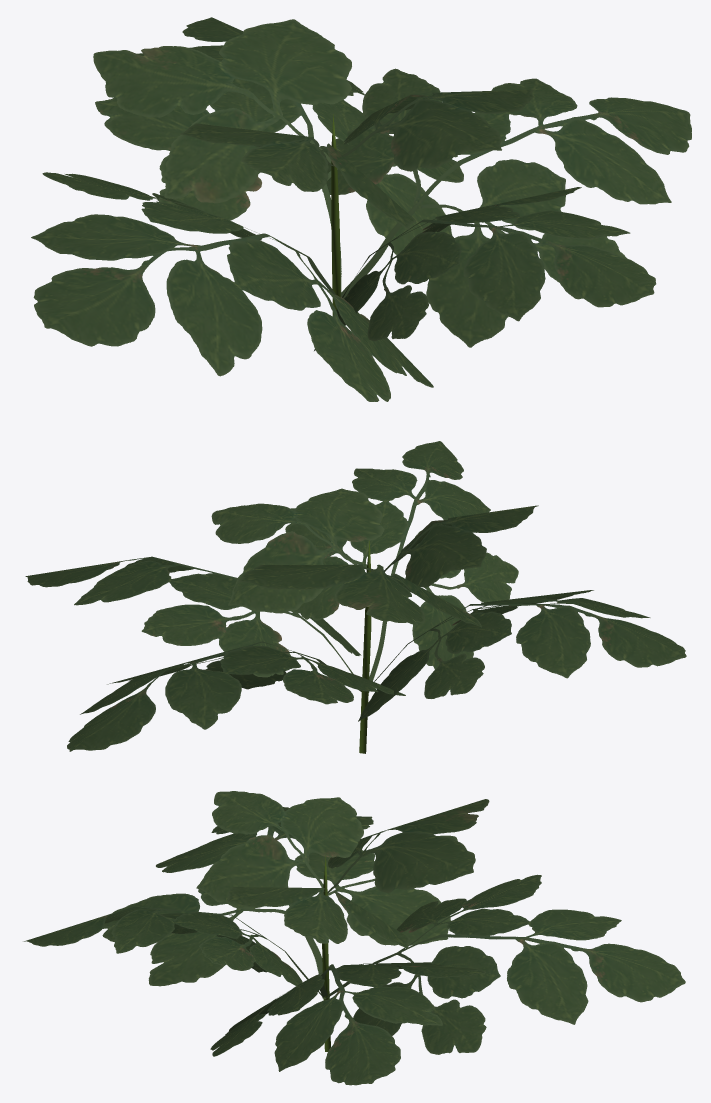
Rendered from MSH_fwOF_ForestPlant_B_03.fbx.
3 renders of one model, top to bottom at view 1: azimuth 30°, elevation 25°; view 2: azimuth 150°, elevation 25°; view 3: azimuth 270°, elevation 25°, orthographic. The views are drawn at different scales.
Visible parts, largest first — view 1: MSH_fwOF_ForestPlant_B_03; view 2: MSH_fwOF_ForestPlant_B_03; view 3: MSH_fwOF_ForestPlant_B_03.
Boxes of the visible parts, x1,y1,x2,y2 form: MSH_fwOF_ForestPlant_B_03: (31, 17, 691, 401); MSH_fwOF_ForestPlant_B_03: (25, 441, 686, 753); MSH_fwOF_ForestPlant_B_03: (23, 791, 685, 1085).
Size of the model in its own units: 0.6673 by 0.2427 by 0.713.
